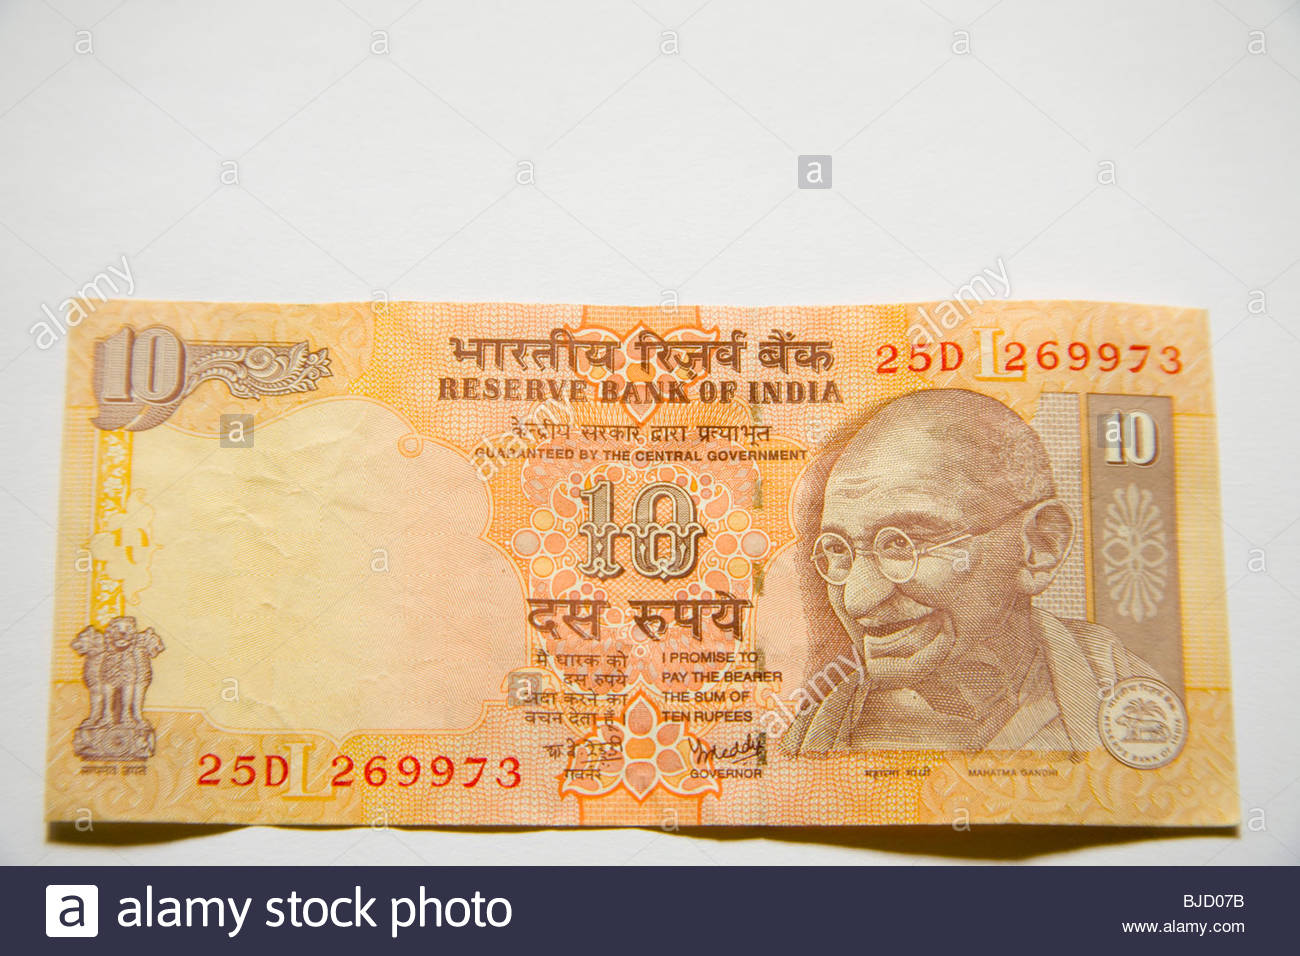ten_rupees_note: (46, 297, 1238, 833)
